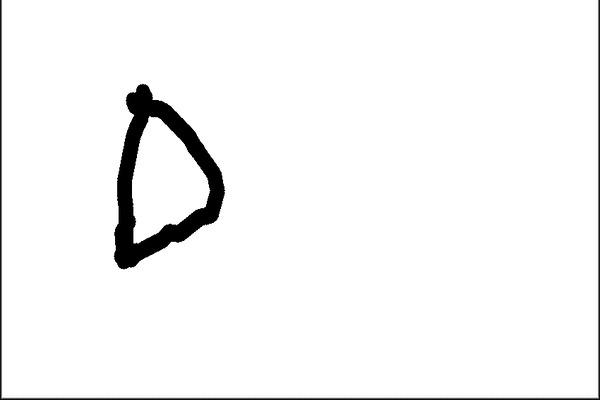D: (105, 79, 229, 273)
